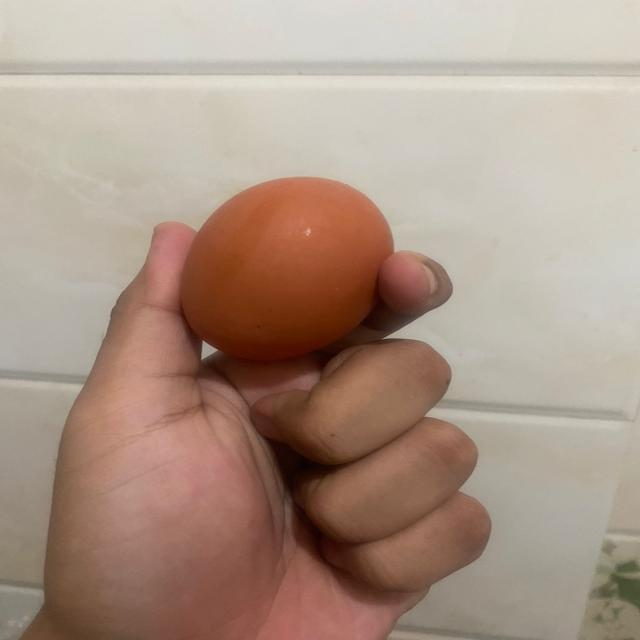egg: (175, 176, 398, 364)
